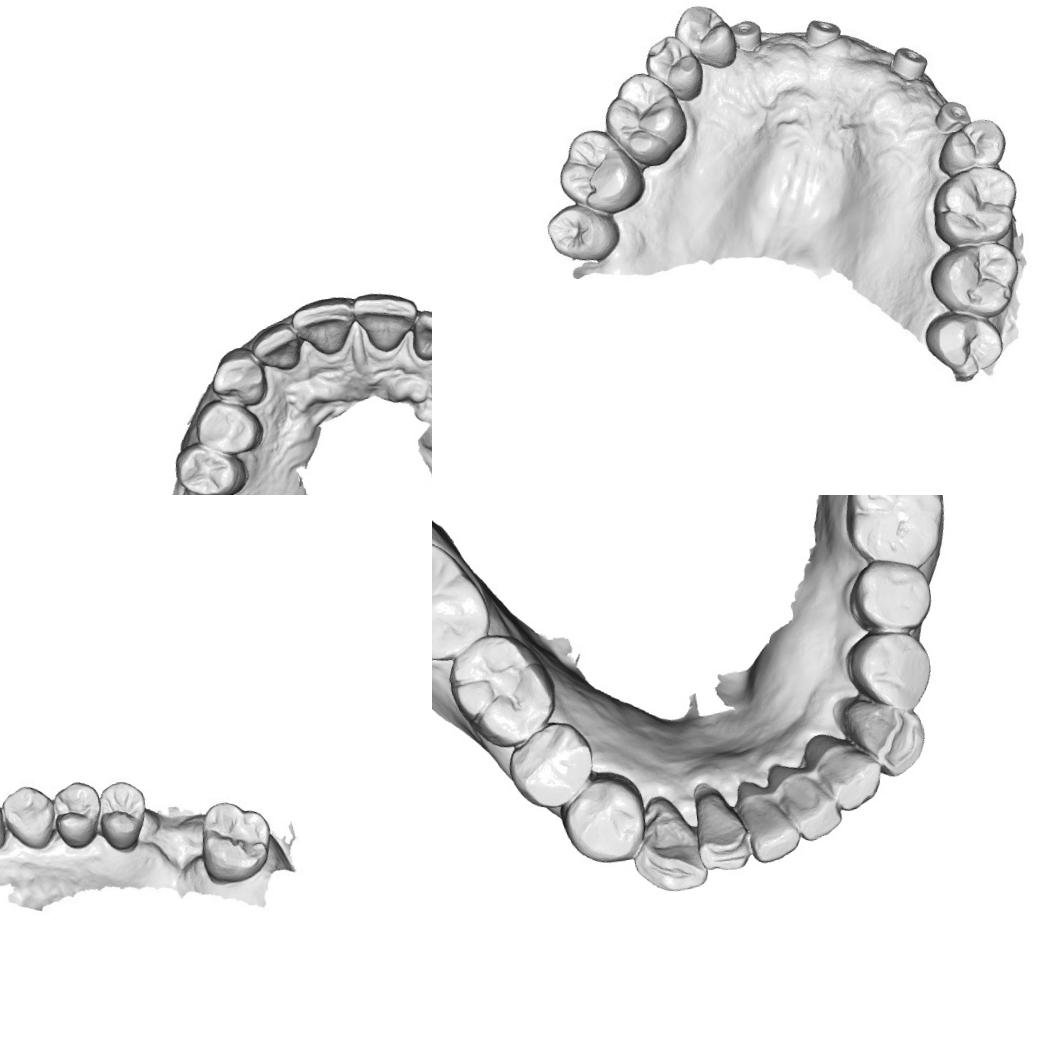canine: (624, 790, 712, 898), (841, 692, 932, 782), (0, 776, 62, 855), (207, 345, 270, 410)
implant: (881, 39, 933, 85), (799, 9, 846, 52), (930, 93, 976, 135), (727, 13, 766, 55)
incisor: (810, 730, 887, 816), (692, 780, 756, 876), (776, 759, 845, 846), (738, 776, 804, 866), (348, 286, 423, 358), (288, 294, 360, 359), (246, 320, 303, 378), (407, 304, 432, 363)
molar: (443, 624, 565, 754), (598, 66, 693, 174), (927, 158, 1028, 253), (550, 123, 647, 220), (922, 237, 1028, 324), (840, 495, 953, 574), (432, 530, 495, 669), (192, 794, 276, 886), (918, 304, 1008, 386), (542, 198, 622, 266)
premolar: (502, 714, 602, 814), (842, 627, 940, 719), (558, 770, 647, 870), (845, 553, 936, 639), (670, 0, 741, 73), (190, 392, 266, 460), (930, 114, 1008, 179), (641, 30, 706, 108), (91, 776, 153, 854), (170, 436, 250, 495), (48, 776, 106, 852)
